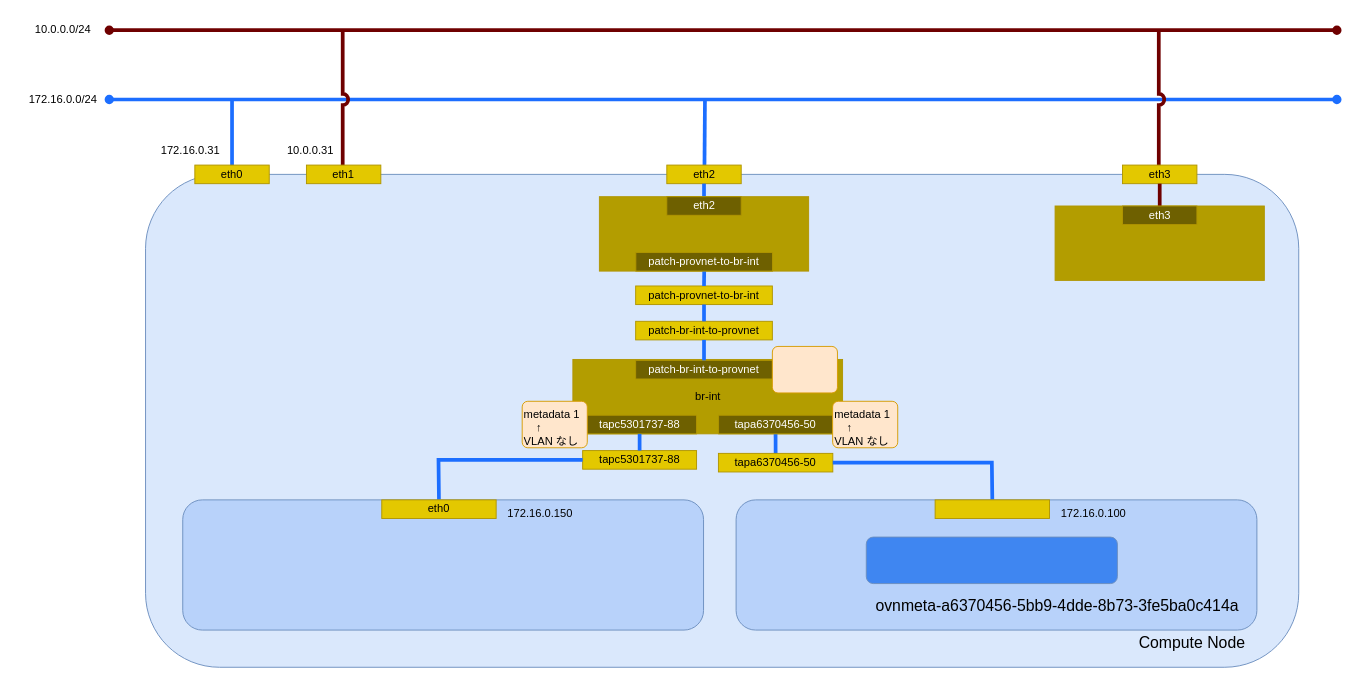
Image size: 1362x684. Some labels were removed from this diagram. The shapes that lost their labels are listed below. From the top down, each one's box as (x1, y1, x2, y2) in pixels, then its label:
(598, 196, 809, 271): br-provider
(1054, 205, 1264, 280): br-mgmt
(771, 345, 837, 393): VLAN なし ↓ metadata 1
(934, 499, 1050, 518): tapa6370456-51
(182, 499, 704, 630): instance00
(865, 536, 1117, 584): Metadata Agent
